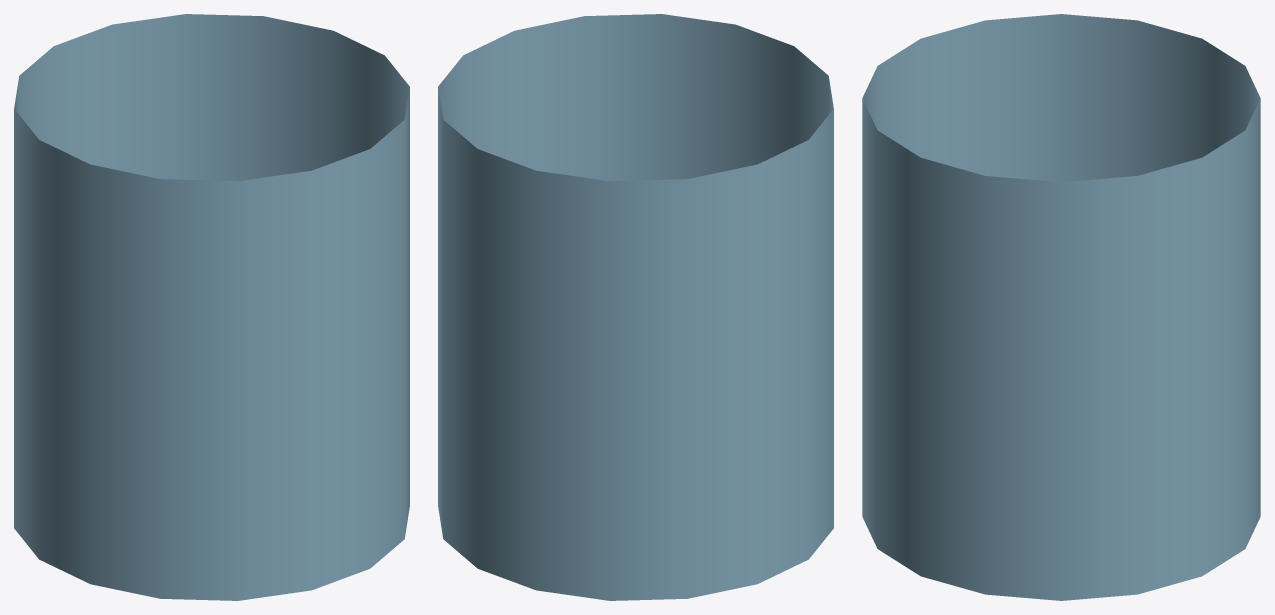
Rendered from glasschamber.fbx.
The picture shows the model from 3 angles, left to right: view 1: azimuth 30°, elevation 25°; view 2: azimuth 150°, elevation 25°; view 3: azimuth 270°, elevation 25°; orthographic projection.
Parts seen in each view (by area): view 1: glasschamber; view 2: glasschamber; view 3: glasschamber.
Boxes of the visible parts, bbox=[...] form: glasschamber: bbox=[14, 14, 409, 600]; glasschamber: bbox=[438, 14, 833, 600]; glasschamber: bbox=[862, 14, 1260, 600].
Bounding box in the file's own units: 501 × 581 × 501.
